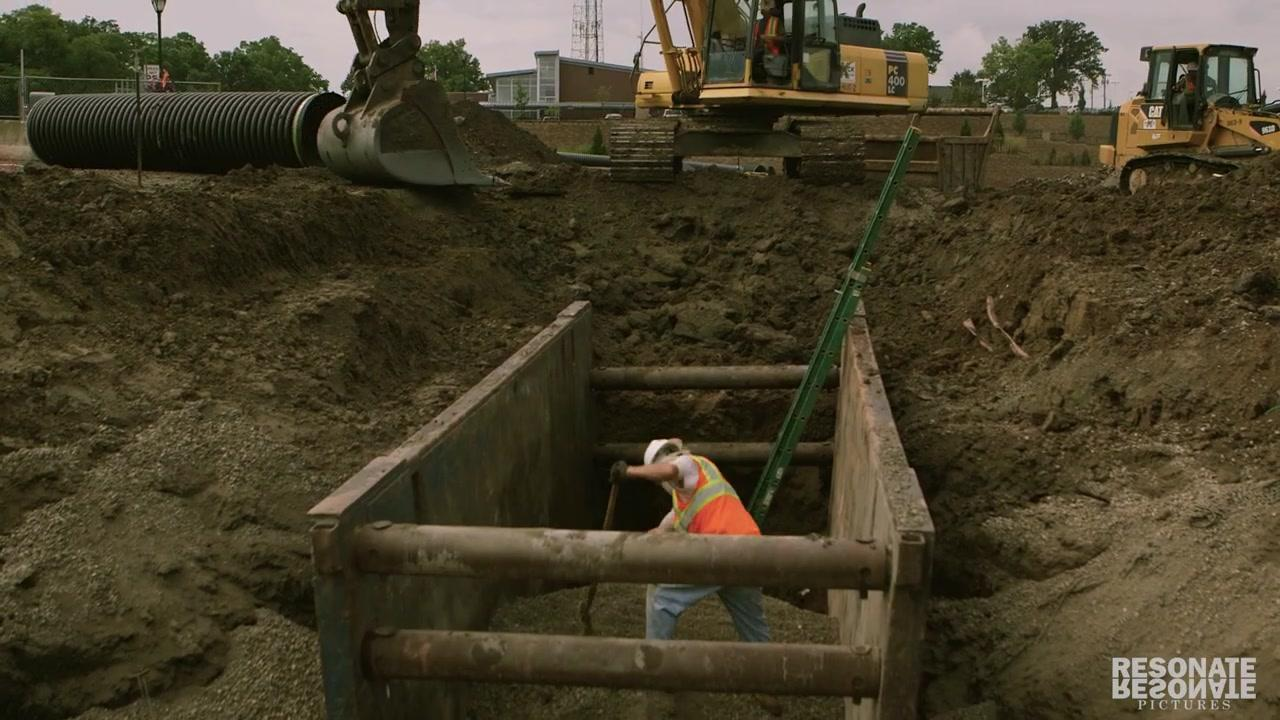vest: (665, 454, 763, 536)
